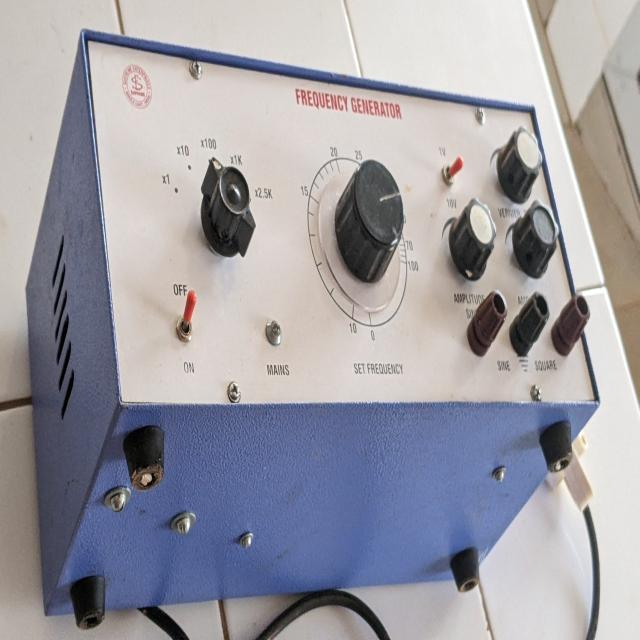Analog Frequency Generator: (61, 42, 598, 602)
